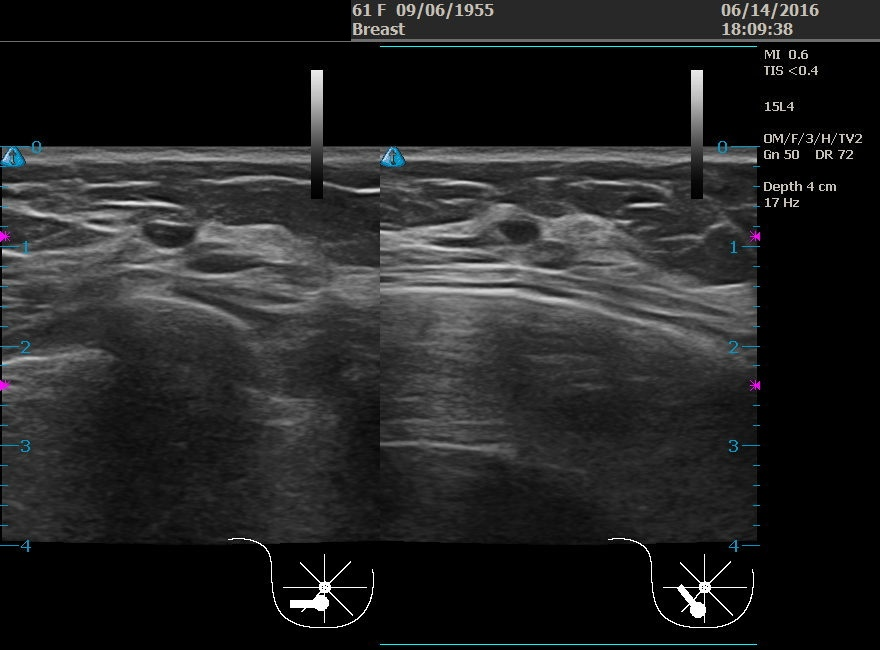BIRADS_2: (75, 172, 275, 372), (425, 163, 625, 363)
